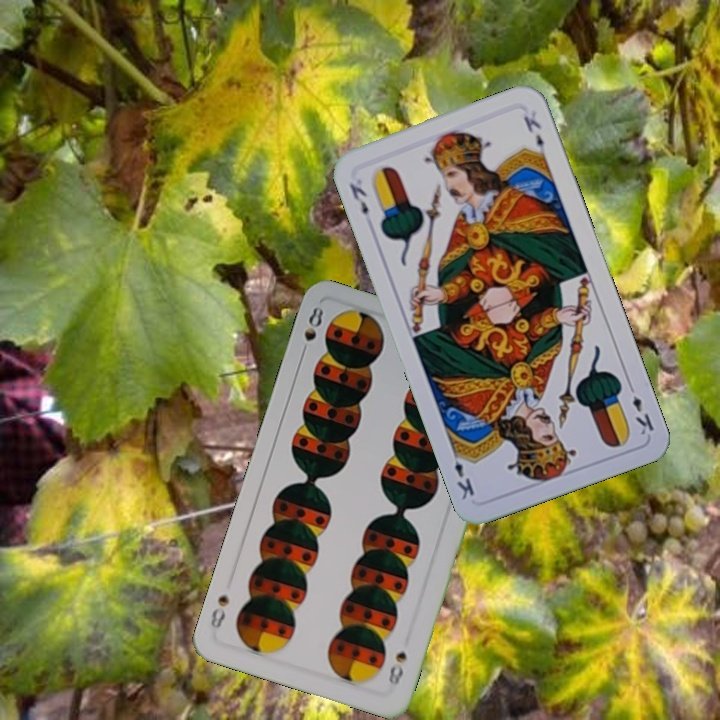EK: (624, 379, 657, 438), (345, 179, 371, 218)
S8: (296, 302, 326, 360), (384, 647, 409, 689)
